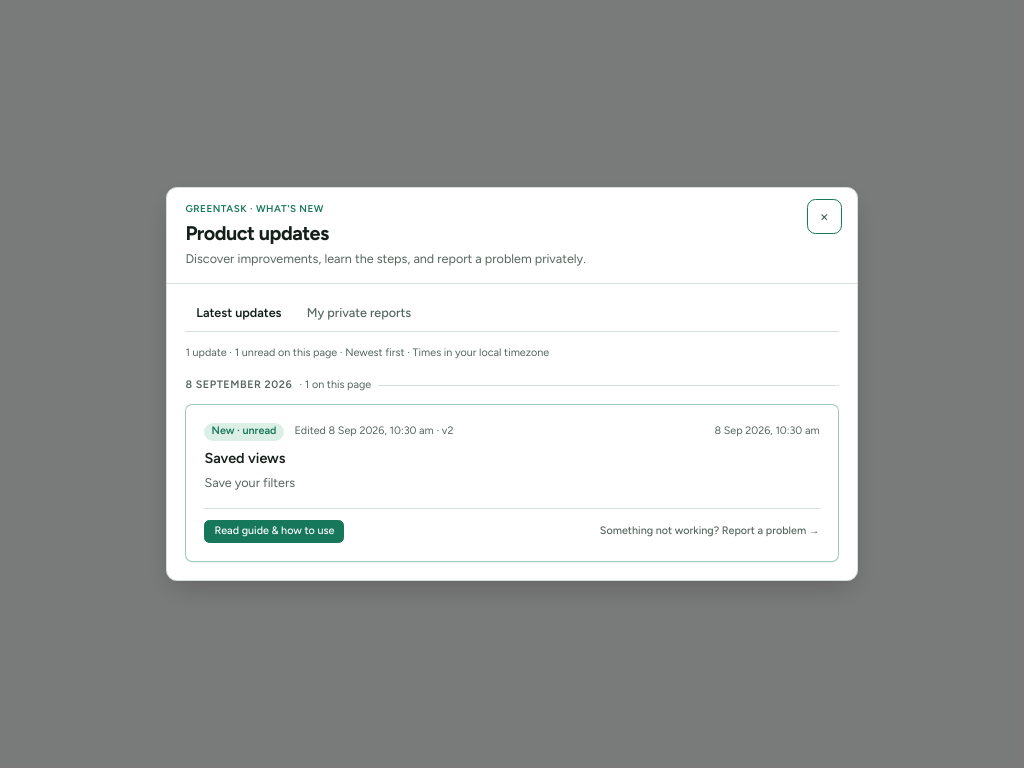
Test: employee sees dated guides and report action, but never publish/edit controls
Click the button "Read guide & how to use". click: (274, 531)
box: [204,520,344,543]
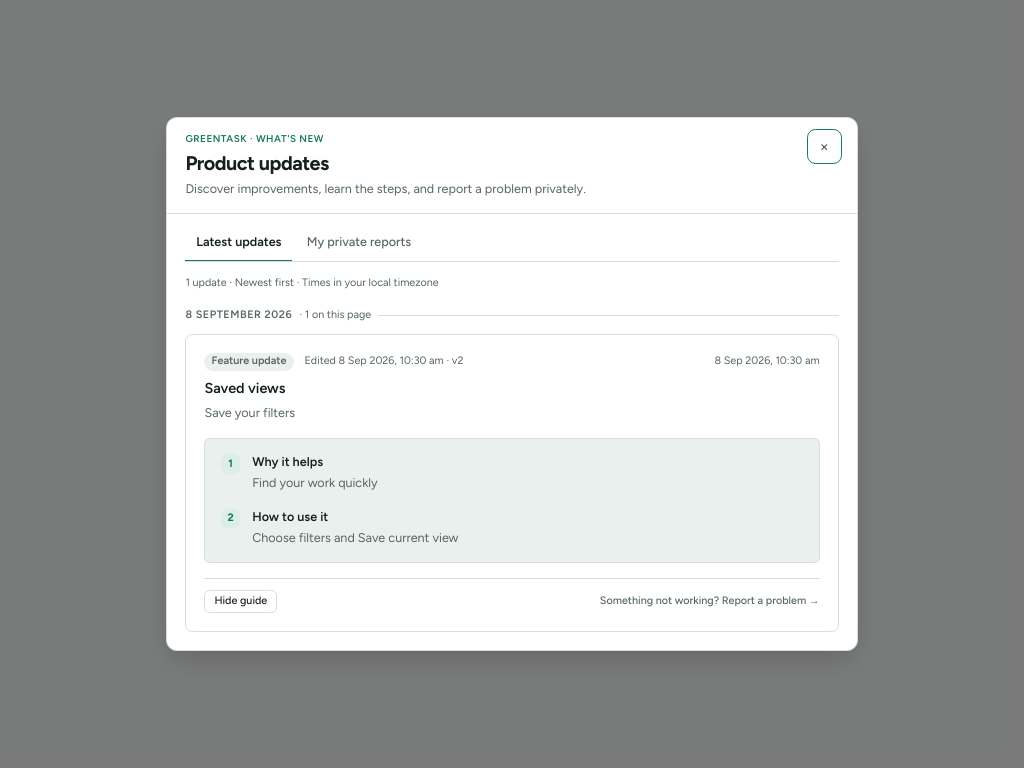
Expected: the text "report a problem" is shown, [185,181,586,196]
Result: the text "Choose filters and Save current view" is shown at [252,528,458,548]
